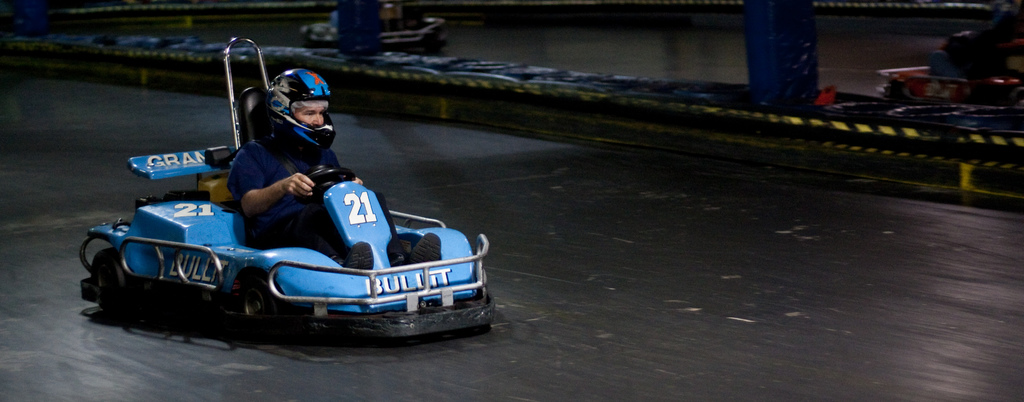Person: (226, 68, 441, 270)
